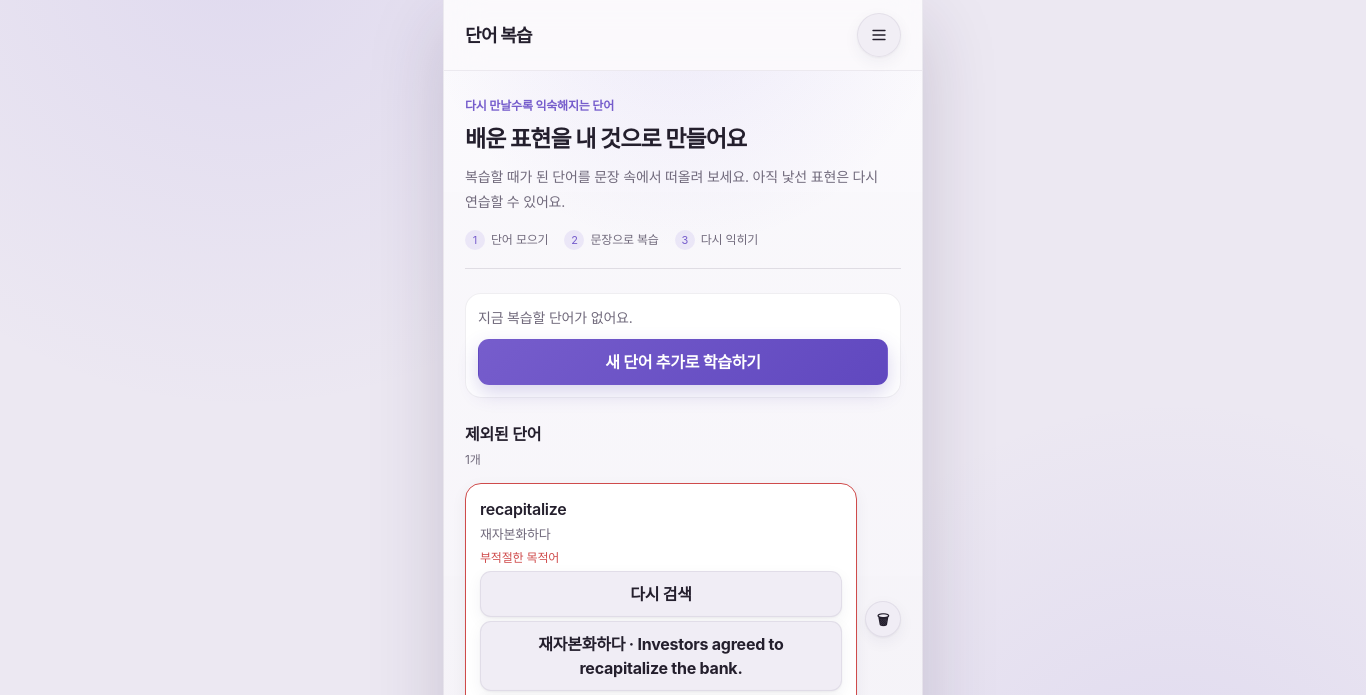
it: validated research selection › preserves a rejected card and reports failed selection
Click the button "재자본화하다 · Investors agreed to recapitalize the bank." at (661, 656), box top-left (480, 621), bottom-right (842, 691)
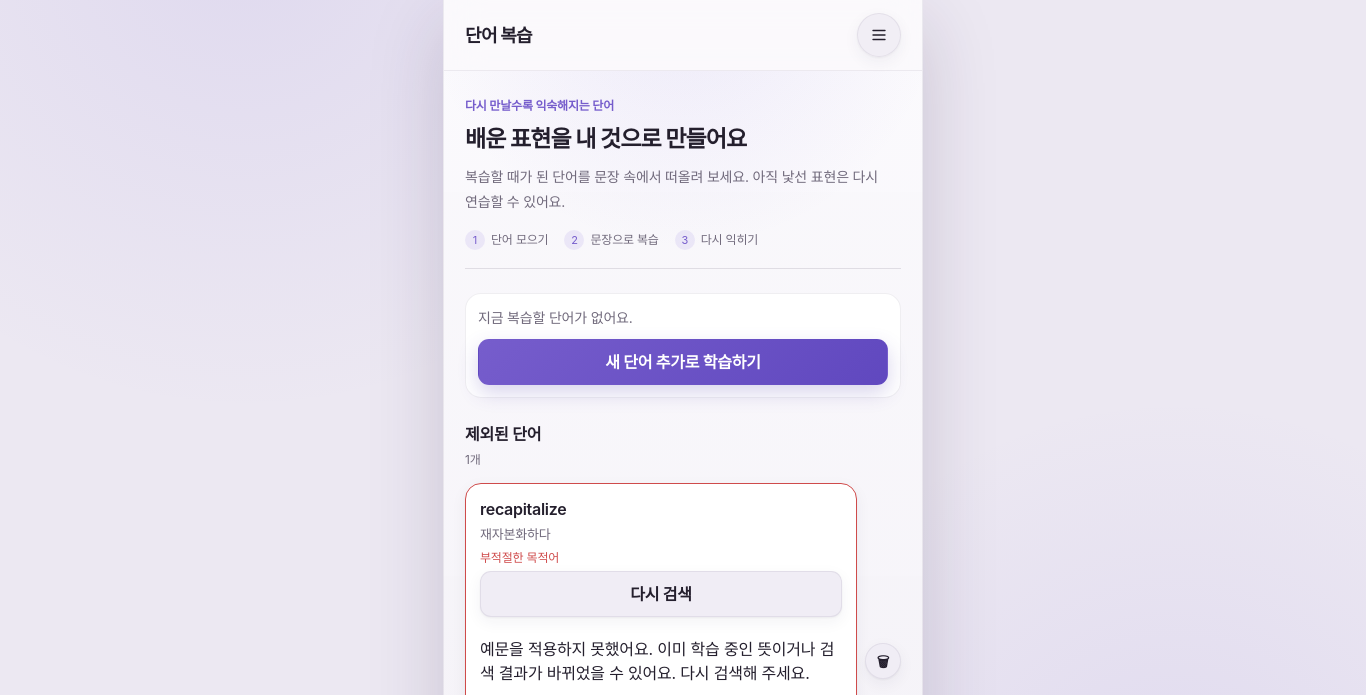
Expected: the heading "제외된 단어" is shown, top-left (465, 424), bottom-right (541, 444)
Expected: the message "예문을 적용하지 못했어요. 이미 학습 중인 뜻이거나 검색 결과가 바뀌었을 수 있어요. 다시 검색해 주세요." is shown, top-left (480, 637), bottom-right (842, 685)
